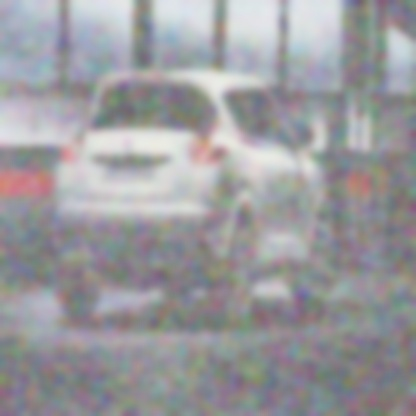Vehicle: (54, 68, 341, 328)
